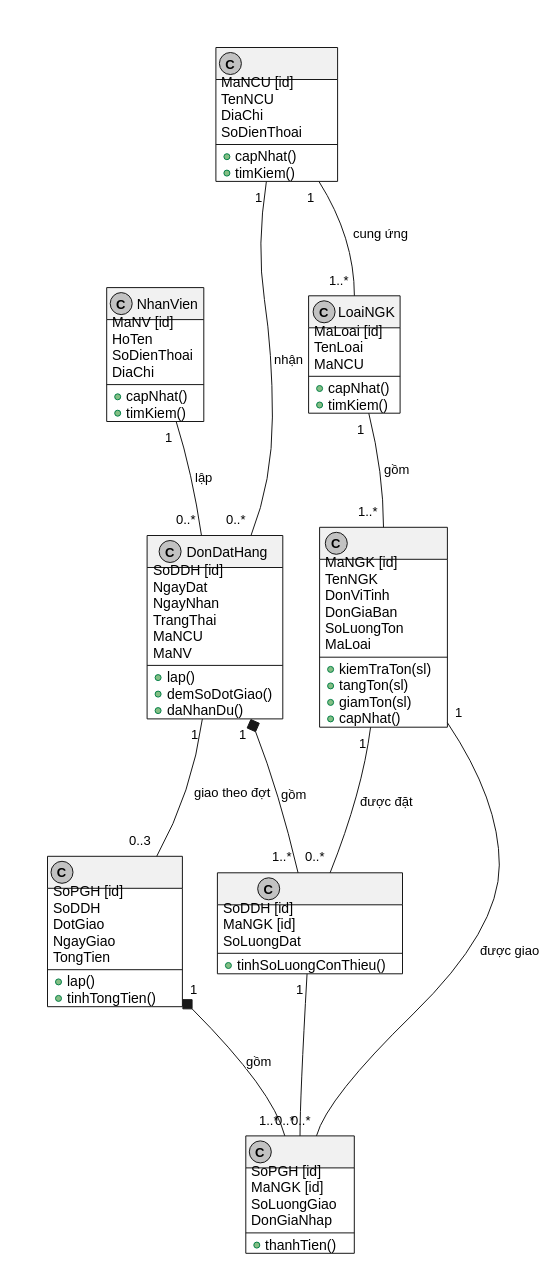
Image size: 557x1271. Some labels were removed from this diagram. The shapes that lost their labels are listed below. From the top down, each one's box as (x1, y1, x2, y2) in pixels, then its label:
(215, 46, 338, 181): NhaCungUng
(319, 526, 447, 727): NuocGiaiKhat
(46, 855, 182, 1007): PhieuGiaoHang
(216, 872, 402, 974): ChiTietDDH
(245, 1135, 354, 1253): ChiTietPGH
